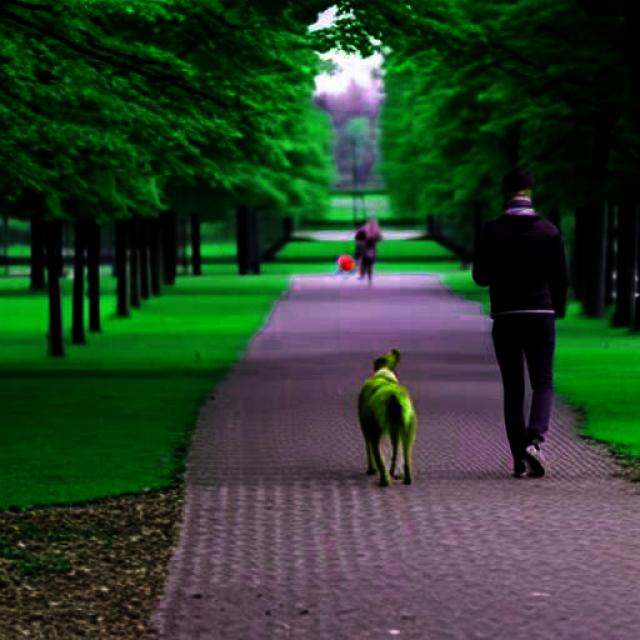Unleashed_Dog: (360, 313, 554, 486)
